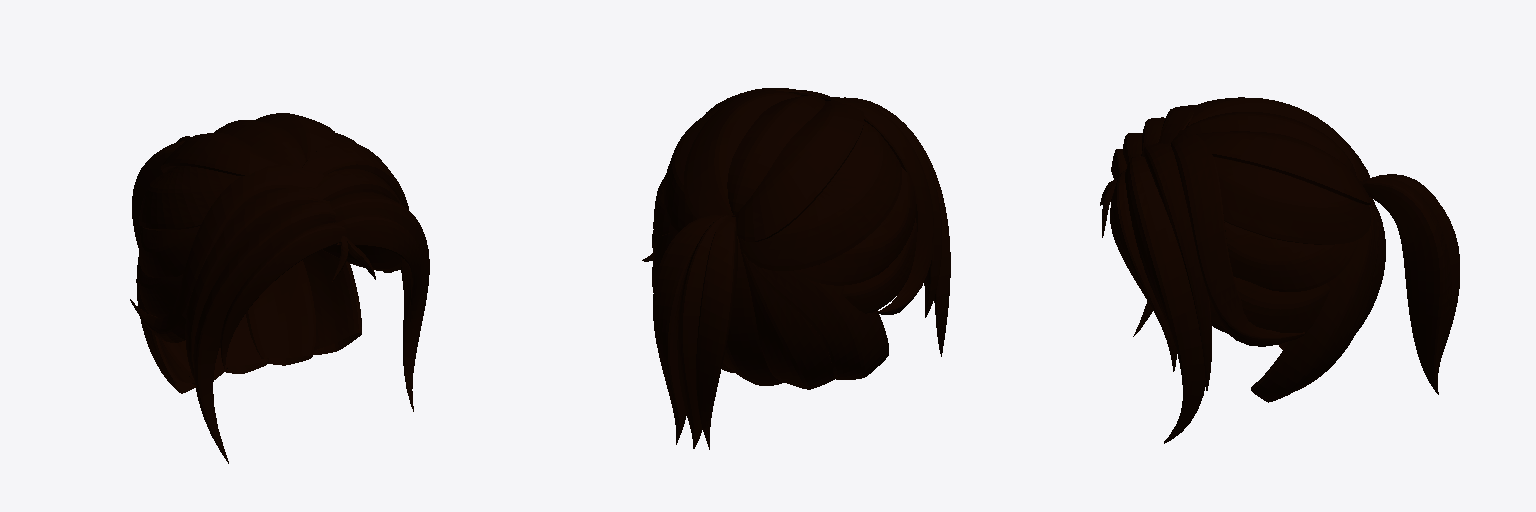
File: FemaleHairBlender.obj
3 views of the same model, side by side, from view 1: azimuth 30°, elevation 25°; view 2: azimuth 150°, elevation 25°; view 3: azimuth 270°, elevation 25° (orthographic).
Parts seen in each view (by area): view 1: Hair_NurbsPath.031; view 2: Hair_NurbsPath.031; view 3: Hair_NurbsPath.031.
Boxes of the visible parts, x1,y1,x2,y2 form: Hair_NurbsPath.031: [130, 113, 429, 463]; Hair_NurbsPath.031: [642, 88, 950, 449]; Hair_NurbsPath.031: [1100, 97, 1459, 443].
Size of the model in its own units: 6.88 by 7.51 by 8.82.